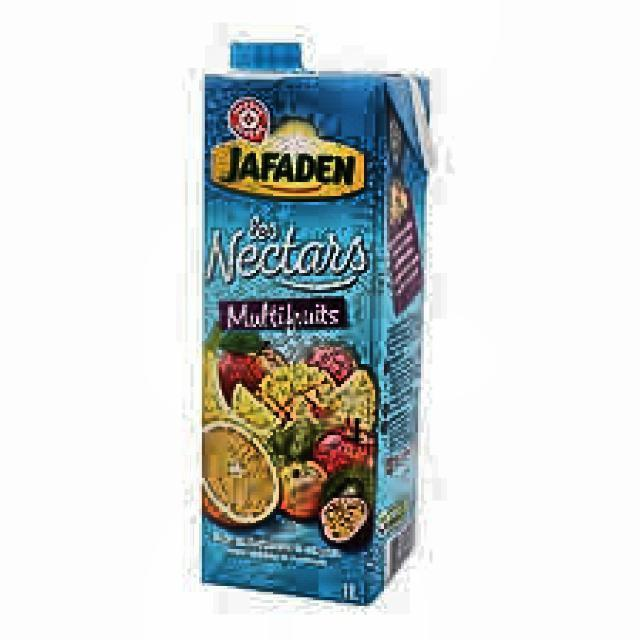cardboard: (196, 43, 432, 606)
